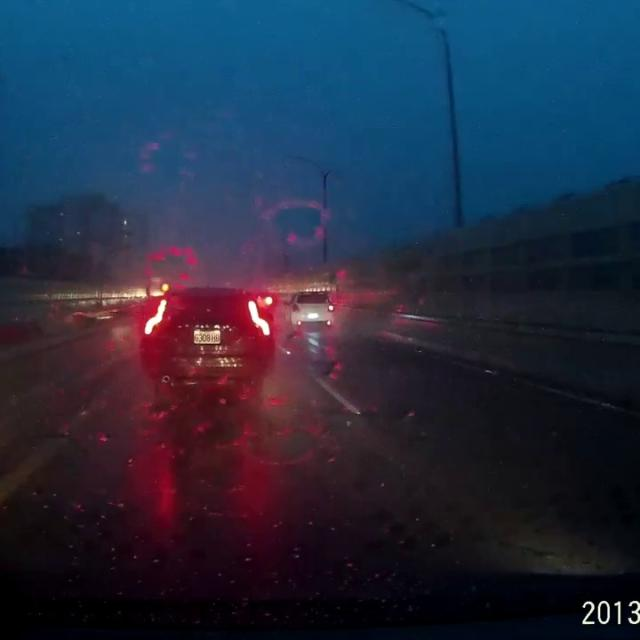Car: (135, 276, 274, 398), (284, 288, 339, 329)
